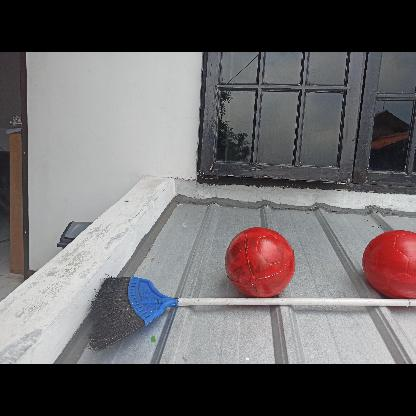red_ball: (226, 228, 296, 298)
